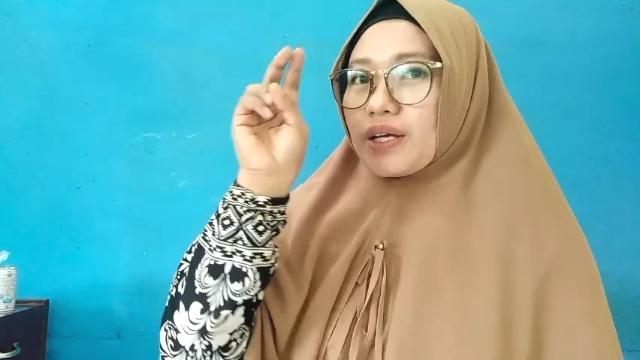U: (228, 41, 316, 177)
